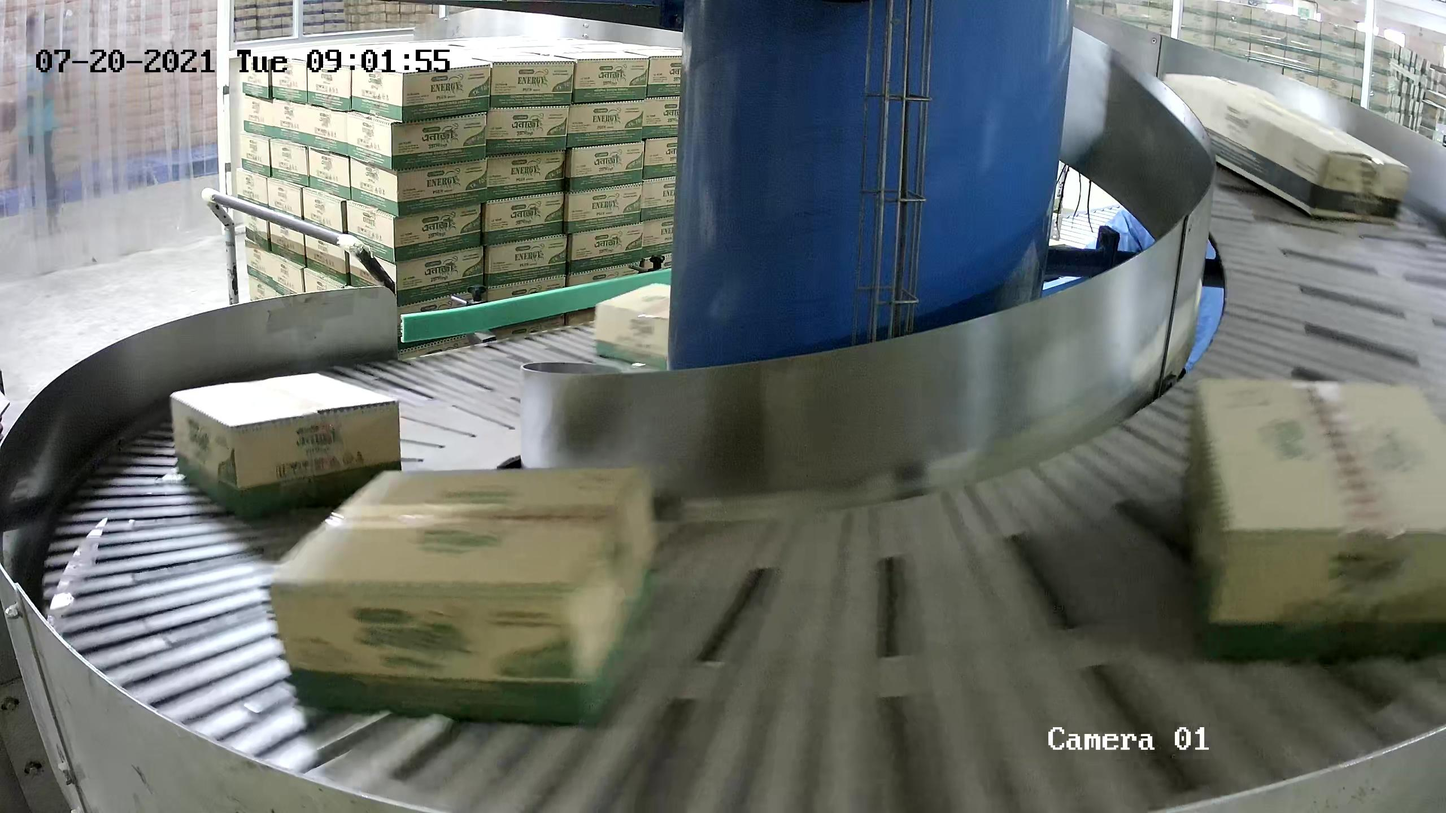Box: (266, 458, 667, 729), (1174, 372, 1446, 668), (1152, 71, 1415, 229), (169, 369, 406, 526), (595, 279, 705, 375)
